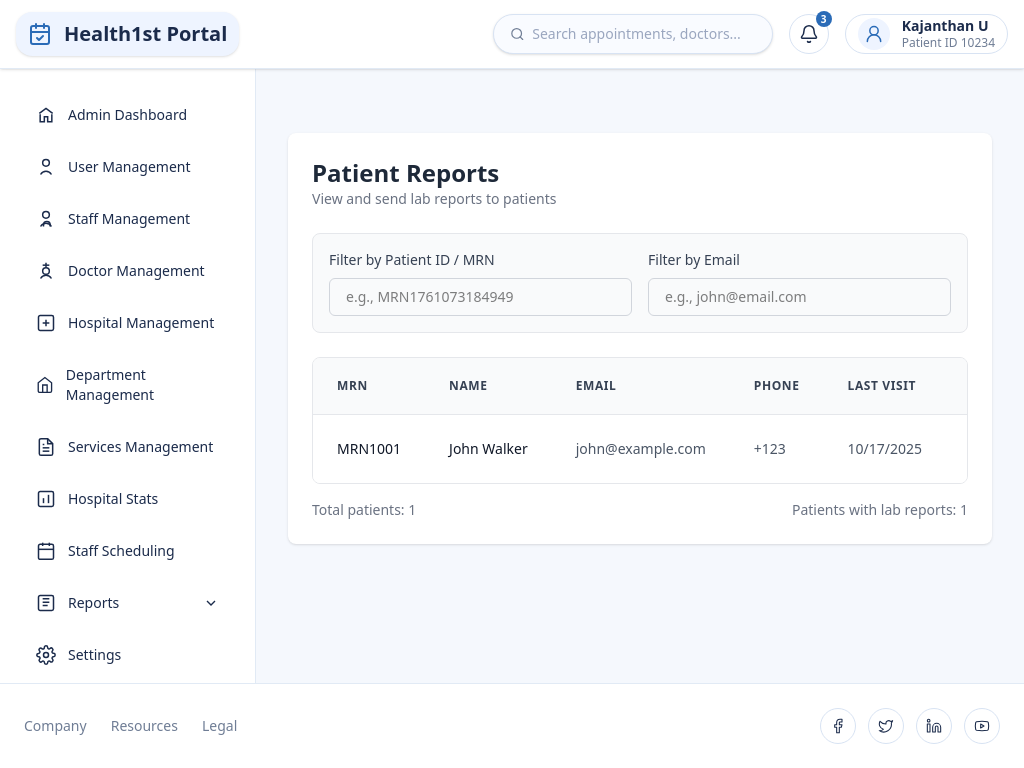
PatientReports › Clear Filters button clears both inputs
Type into both filters
Type "MRN1001" into the field with placeholder "e.g., MRN1761073184949" at (480, 297), box [329,278,632,316]
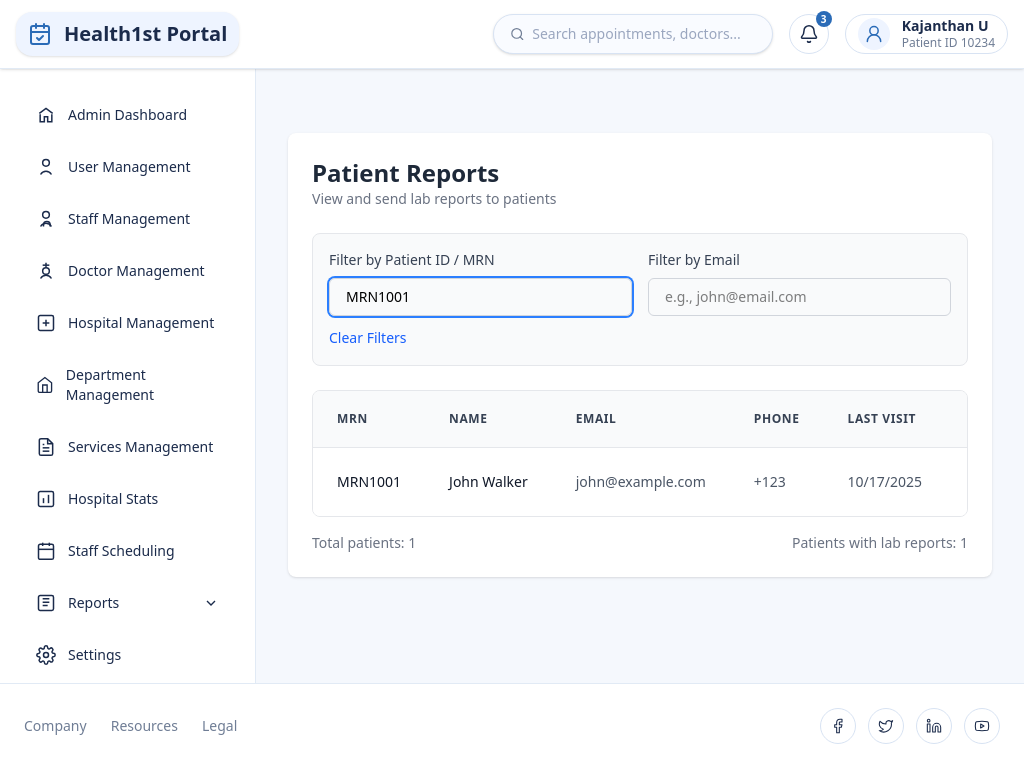
Type "john@" into the field with placeholder "e.g., john@email.com" at (800, 297), box [648,278,951,316]
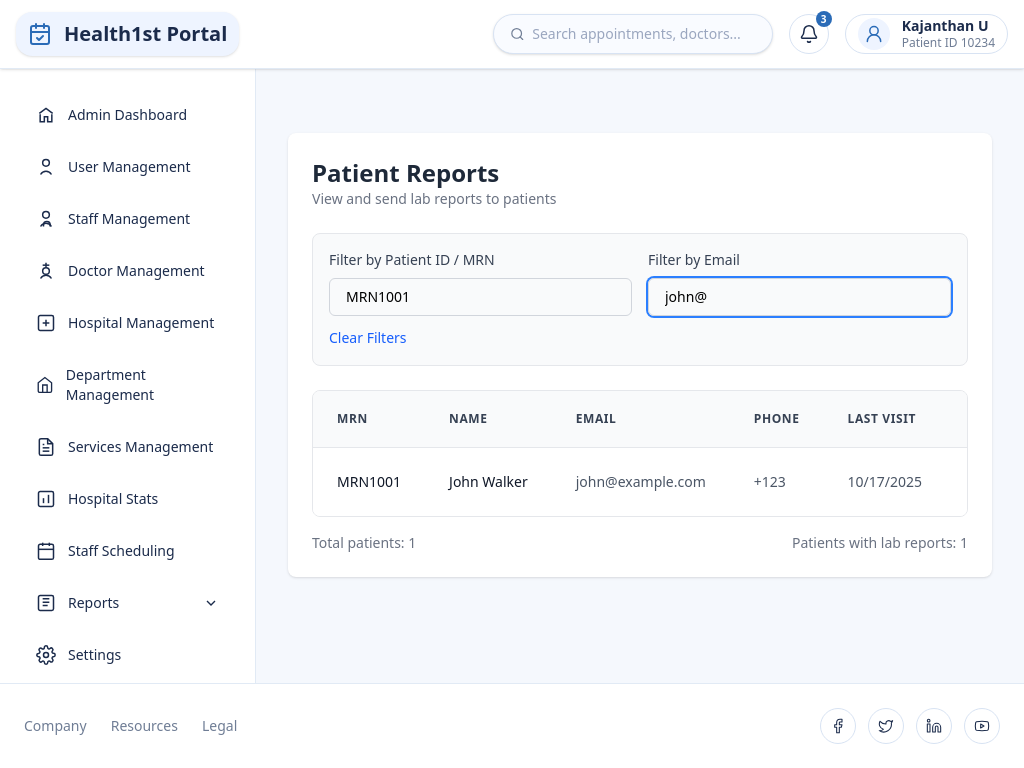
Clear Filters button should appear
Click the button "Clear Filters" at (368, 338), box [329,328,407,348]
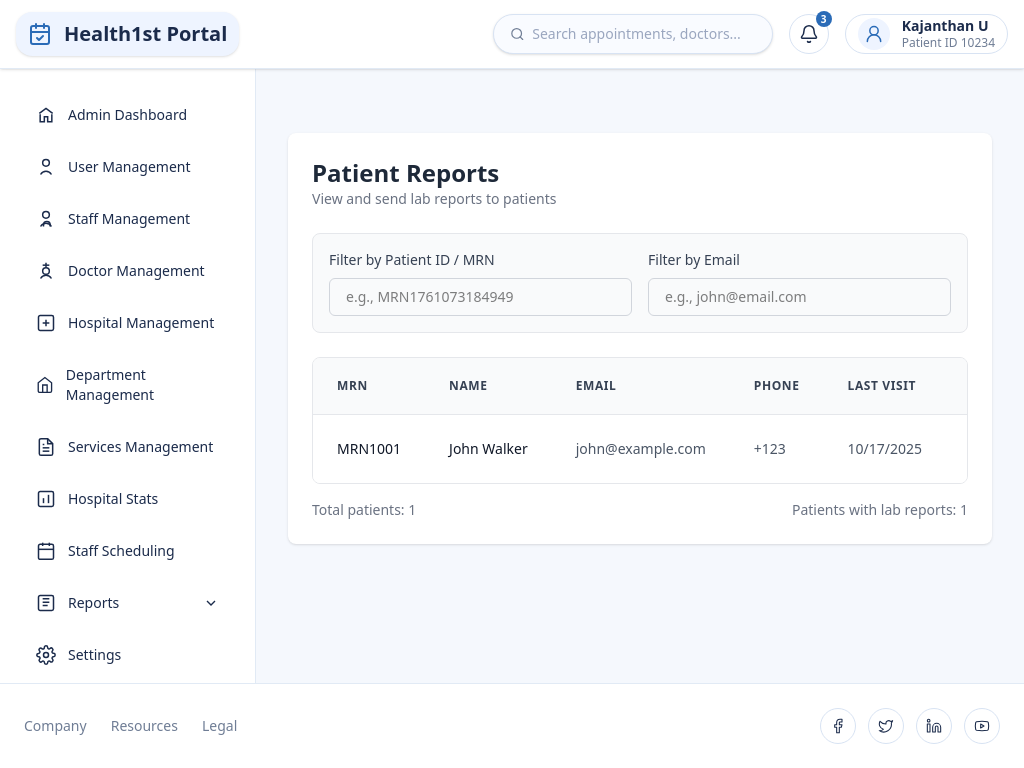
Expected: the field with placeholder "e.g., MRN1761073184949" is empty, [329,278,632,316]
Expected: the field with placeholder "e.g., john@email.com" is empty, [648,278,951,316]
